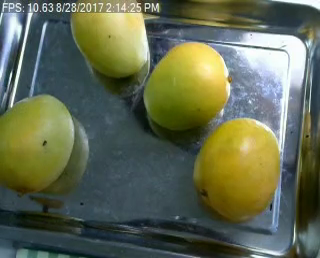Mango: (192, 118, 279, 218), (0, 93, 74, 194), (144, 43, 231, 128), (70, 1, 149, 78)
